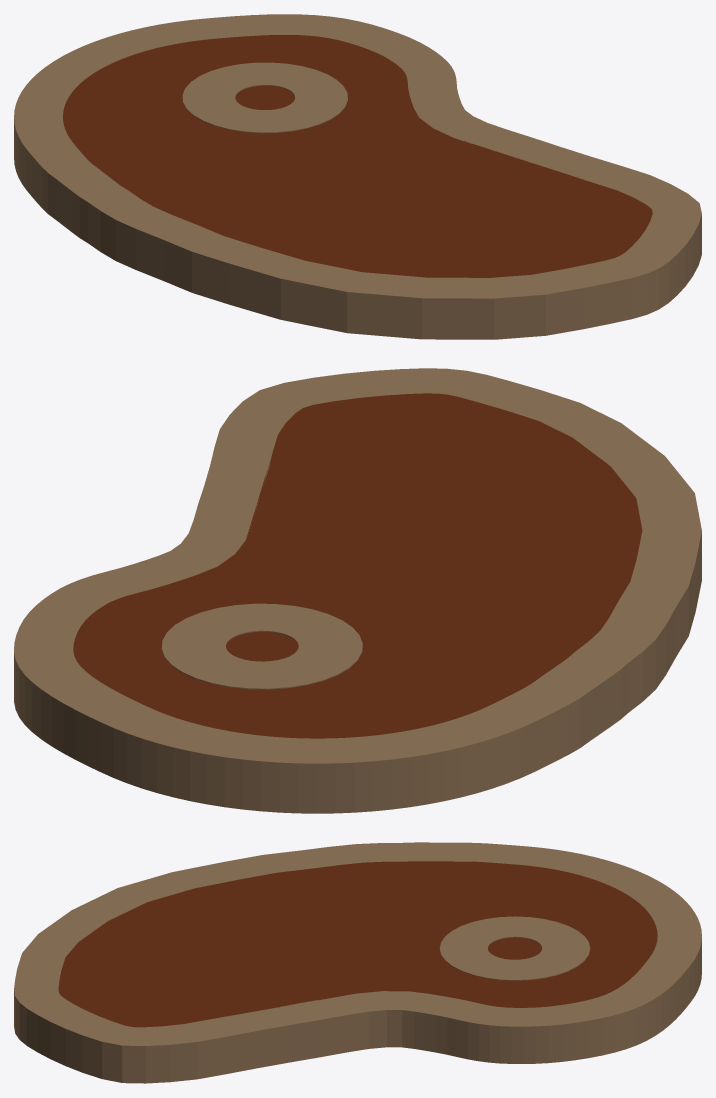
Rendered from Pişmiş et.fbx.
3 views of the same model, one above another, from view 1: azimuth 30°, elevation 25°; view 2: azimuth 150°, elevation 25°; view 3: azimuth 270°, elevation 25° (orthographic). The views are drawn at different scales.
Visible parts, largest first — view 1: Cylinder.001; view 2: Cylinder.001; view 3: Cylinder.001.
Part boxes in pixels (x1,y1,x2,y2): Cylinder.001: (14, 14, 701, 339); Cylinder.001: (14, 368, 701, 813); Cylinder.001: (14, 842, 701, 1083).
Bounding box in the file's own units: 15.7 × 1.39 × 22.41.
